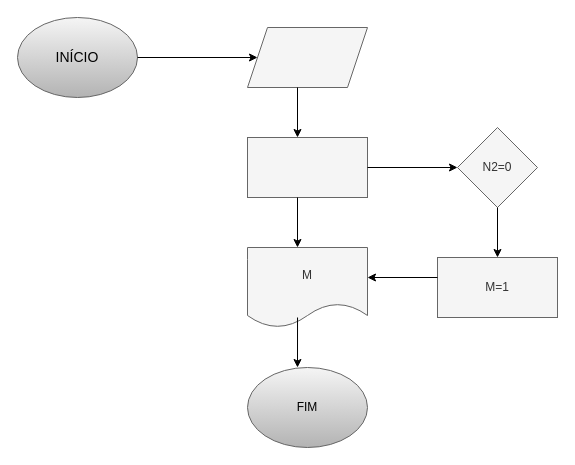
This 575x465 diagram has some shape labels left out. Here are the shapes that lost their labels. From the top down, the box of each, then its label:
(246, 26, 368, 88): N1, N2
(246, 136, 368, 198): M=N1 / N2
